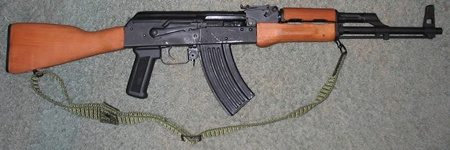ak47: (7, 6, 441, 119)
